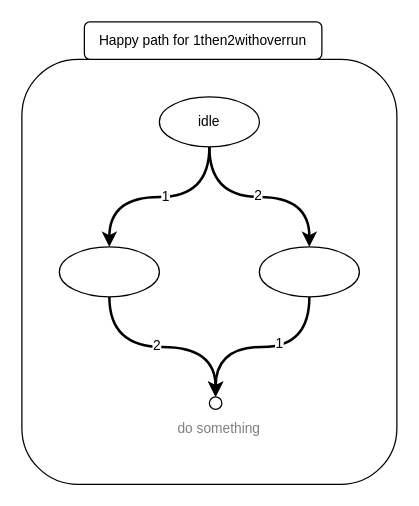
This 419x506 diagram has some shape labels left out. Each missing label, with the centre of its shape:
"want1" belongs at (308,271).
"want2" belongs at (108,271).
